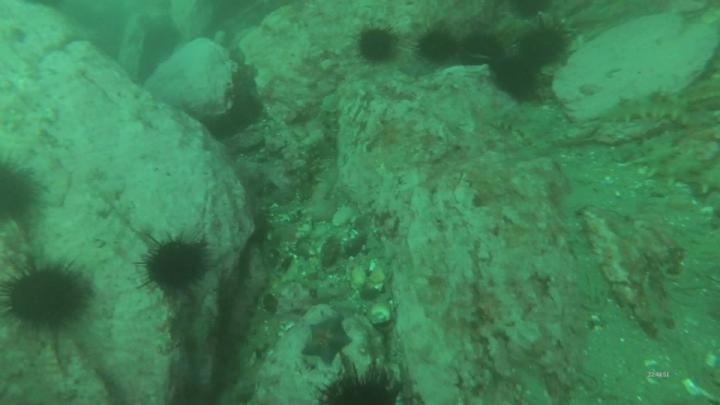echinus: (2, 259, 96, 334), (133, 230, 217, 305), (317, 361, 409, 405), (2, 158, 40, 232), (349, 23, 402, 73), (490, 51, 543, 100), (517, 21, 571, 68), (456, 28, 509, 68), (416, 27, 460, 69)
holothurian: (636, 127, 720, 195), (594, 89, 701, 126), (487, 109, 555, 153)
starfish: (301, 311, 356, 369)
